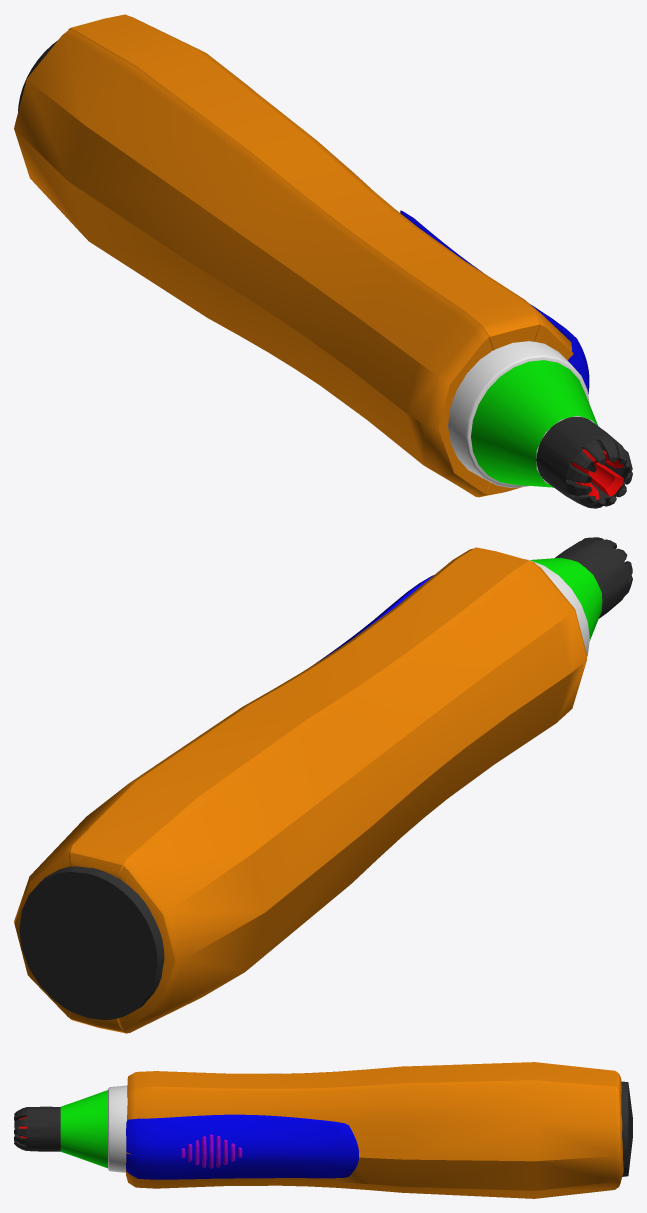
The model's file is nosehair_trimmer.fbx.
3 renders of one model, top to bottom at view 1: azimuth 30°, elevation 25°; view 2: azimuth 150°, elevation 25°; view 3: azimuth 270°, elevation 25°, orthographic. The views are drawn at different scales.
Visible parts, largest first — view 1: polySurface368, polySurface366, polySurface370, polySurface367, polySurface371; view 2: polySurface368, polySurface369, polySurface370, polySurface366; view 3: polySurface368, polySurface371, polySurface366, polySurface370, polySurface369.
Part boxes in pixels (left/top/right/bottom): polySurface368: left=14, top=14, right=573, bottom=497; polySurface366: left=448, top=341, right=597, bottom=487; polySurface370: left=536, top=417, right=632, bottom=508; polySurface367: left=571, top=449, right=623, bottom=499; polySurface371: left=400, top=210, right=589, bottom=393; polySurface368: left=14, top=547, right=586, bottom=1033; polySurface369: left=19, top=866, right=164, bottom=1019; polySurface370: left=554, top=537, right=632, bottom=618; polySurface366: left=524, top=557, right=602, bottom=656; polySurface368: left=126, top=1062, right=623, bottom=1198; polySurface371: left=126, top=1114, right=358, bottom=1179; polySurface366: left=60, top=1085, right=127, bottom=1172; polySurface370: left=14, top=1106, right=60, bottom=1151; polySurface369: left=621, top=1081, right=632, bottom=1176.
Size of the model in its own units: 2.6 by 2.56 by 12.02.
